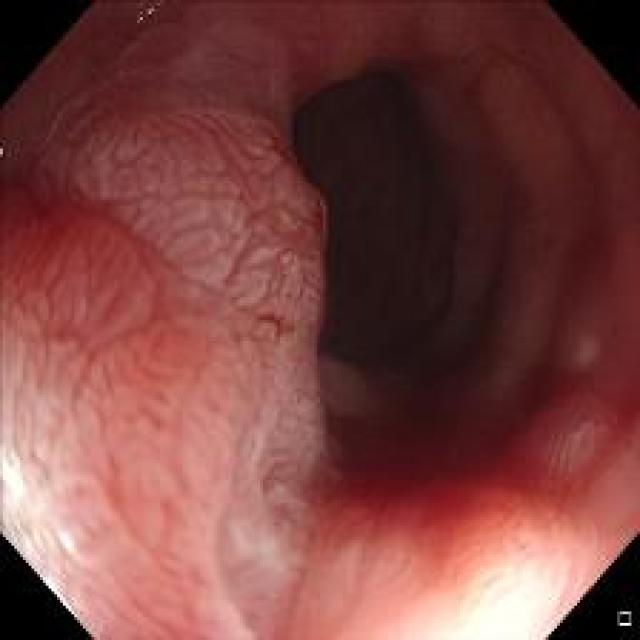blur: (4, 199, 289, 636)
color misalignment: (134, 6, 161, 25)
contrast: (280, 48, 611, 474)
saturation: (440, 544, 549, 638)
specularity: (1, 442, 26, 498), (55, 529, 82, 560)
